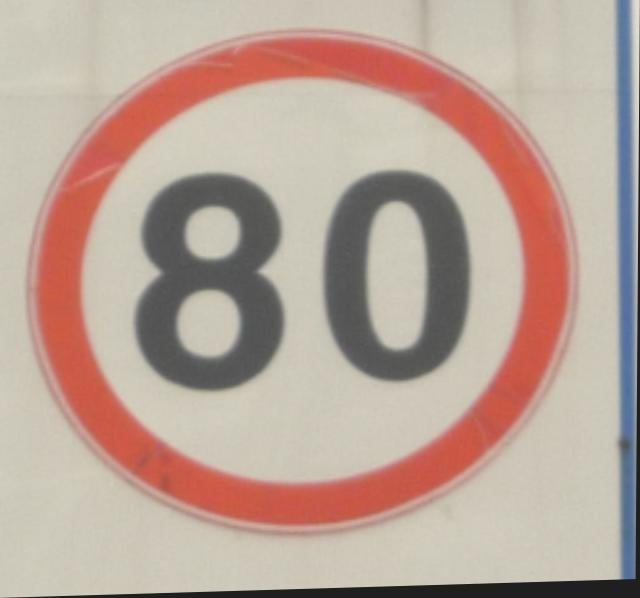limit80: (9, 11, 593, 551)
